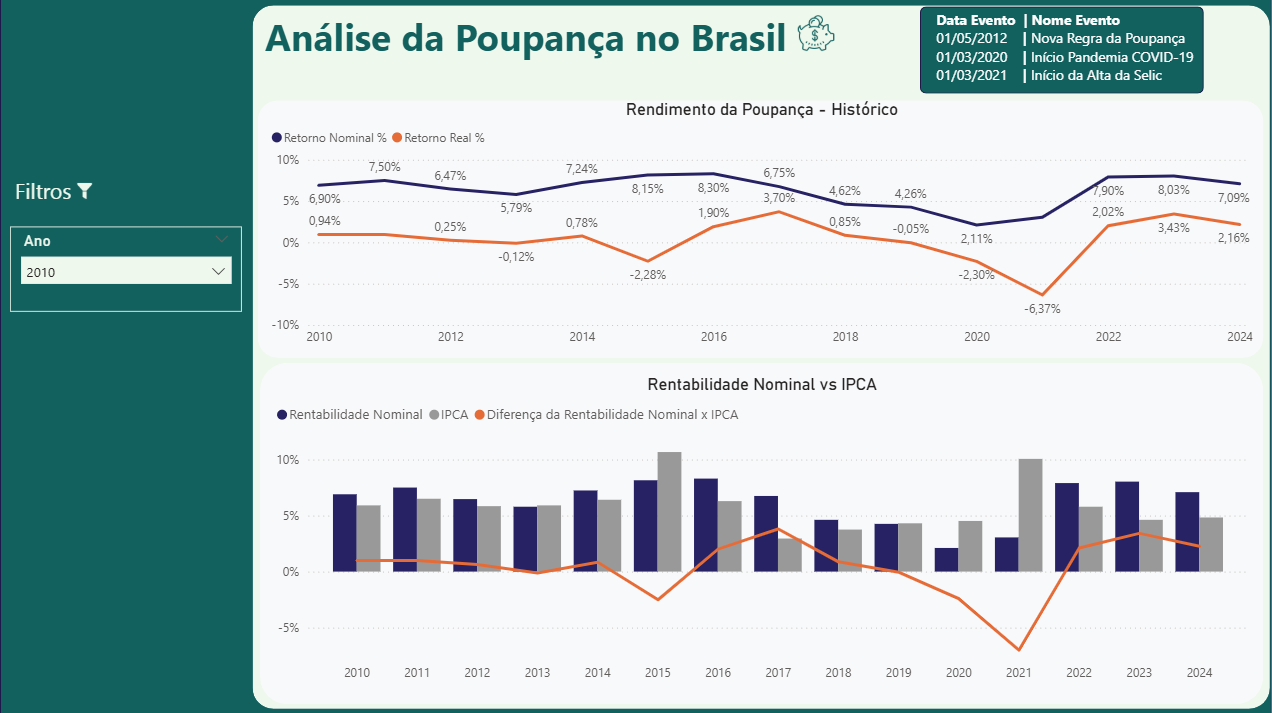

The dashboard page shown, as its layout file describes it:
{"tool":"powerbi","page":{"name":"Análise1","canvas":[1280,720],"ordinal":0},"visuals":[{"type":"shape","box":[0,0,1277.1,720],"z":0},{"type":"shape","box":[253.3,6.7,1021.7,706.7],"z":1000},{"type":"shape","box":[261.5,365.4,1007.5,343],"z":3000},{"type":"textbox","box":[261.2,7.5,610,63.8],"z":4000},{"type":"image","box":[797.5,16.2,45,36.2],"z":5000},{"type":"textbox","box":[9.8,173.6,171.2,55],"z":6000},{"type":"image","box":[77,174.9,17.1,36.7],"z":7000},{"type":"shape","box":[258.8,101.2,1010.1,258.8],"z":8000},{"type":"shape","box":[923.8,7.5,285,87.5],"z":9000},{"type":"textbox","box":[935,6.2,283.8,91.2],"z":10000},{"type":"lineChart","title":"Rendimento da Poupança - Histórico","fields":{"Y":["Rendimento Historico.Retorno Nominal %","Rendimento Historico.Retorno Real %"],"Category":["Rendimento Historico.Ano"]},"box":[267.1,100,995.7,257.1],"z":11000},{"type":"slicer","fields":{"Values":["Calendario.Ano"]},"box":[10,228.6,232.9,85.7],"z":12000},{"type":"lineClusteredColumnComboChart","title":"Rentabilidade Nominal vs IPCA","fields":{"Category":["Rentabilidade Nominal X IPCA.Ano"],"Y":["Sum(Rentabilidade Nominal X IPCA.Rentabilidade Nominal)","Sum(Rentabilidade Nominal X IPCA.IPCA)"],"Y2":["Sum(Rentabilidade Nominal X IPCA.Diferença de Rentabilidade Nominal)"]},"box":[272.9,377.1,985.7,318.6],"z":13000}]}

Visuals, with their boxes in screenshot pixels (x1, y1, x2, y2), scaled from the page's 1280x720 canvas onto the 1272x713 screenshot:
shape: <bbox>0, 0, 1269, 712</bbox>
shape: <bbox>252, 7, 1267, 706</bbox>
shape: <bbox>260, 362, 1261, 702</bbox>
textbox: <bbox>260, 7, 866, 71</bbox>
image: <bbox>793, 16, 837, 52</bbox>
textbox: <bbox>10, 172, 180, 226</bbox>
image: <bbox>77, 173, 94, 210</bbox>
shape: <bbox>257, 100, 1261, 356</bbox>
shape: <bbox>918, 7, 1201, 94</bbox>
textbox: <bbox>929, 6, 1211, 96</bbox>
"Rendimento da Poupança - Histórico" lineChart: <bbox>265, 99, 1255, 354</bbox>
slicer - Calendario.Ano: <bbox>10, 226, 241, 311</bbox>
"Rentabilidade Nominal vs IPCA" lineClusteredColumnComboChart: <bbox>271, 373, 1251, 689</bbox>
